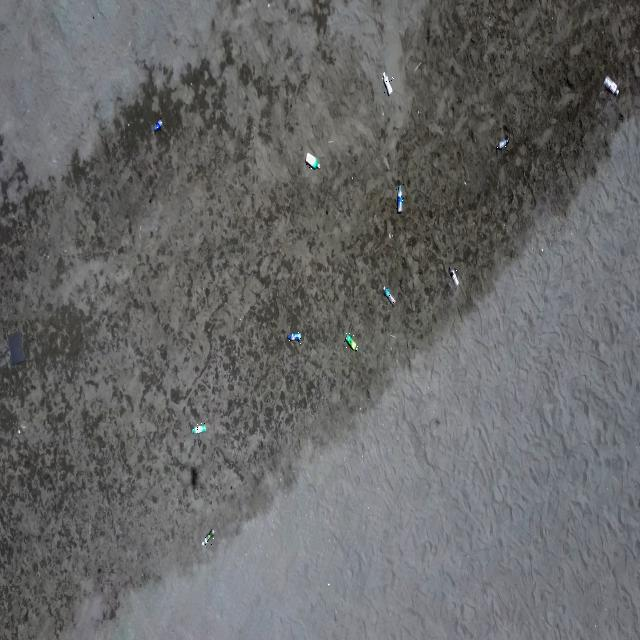Garbage: (8, 332, 23, 362), (382, 71, 393, 95), (604, 75, 616, 95), (396, 183, 404, 212), (306, 152, 319, 168), (344, 333, 356, 350), (495, 135, 508, 150), (383, 287, 395, 303), (447, 267, 457, 286), (201, 528, 212, 544), (287, 332, 300, 343), (191, 423, 206, 432), (152, 120, 161, 131)
